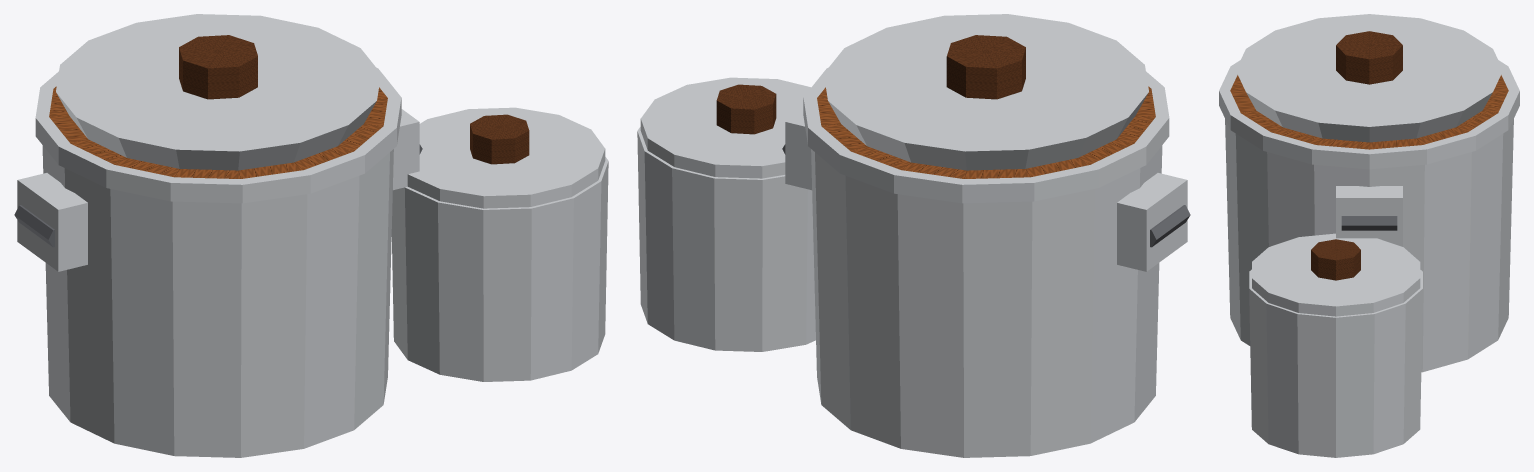
Rendered from stock_pot_and_broth_pot.glb.
3 views of the same model, side by side, from view 1: azimuth 30°, elevation 25°; view 2: azimuth 150°, elevation 25°; view 3: azimuth 270°, elevation 25° (orthographic). The views are drawn at different scales.
Parts seen in each view (by area): view 1: stock-pot-steel, stock-pot-darkwood, stock-pot-timber, stock-pot-charcoal; view 2: stock-pot-steel, stock-pot-darkwood, stock-pot-timber, stock-pot-charcoal; view 3: stock-pot-steel, stock-pot-darkwood, stock-pot-timber, stock-pot-charcoal.
Part boxes in pixels (x1=…): stock-pot-steel: x1=17, y1=14, x2=608, y2=457; stock-pot-darkwood: x1=179, y1=35, x2=529, y2=164; stock-pot-timber: x1=49, y1=86, x2=387, y2=178; stock-pot-charcoal: x1=14, y1=144, x2=422, y2=247; stock-pot-steel: x1=637, y1=14, x2=1187, y2=457; stock-pot-darkwood: x1=716, y1=35, x2=1025, y2=134; stock-pot-timber: x1=817, y1=86, x2=1155, y2=178; stock-pot-charcoal: x1=782, y1=144, x2=1190, y2=247; stock-pot-steel: x1=1219, y1=14, x2=1519, y2=457; stock-pot-darkwood: x1=1311, y1=31, x2=1402, y2=280; stock-pot-timber: x1=1230, y1=75, x2=1508, y2=149; stock-pot-charcoal: x1=1341, y1=216, x2=1397, y2=230.
Size of the model in its own units: 0.916 by 0.54 by 0.54.
4 materials, 2 textured.
